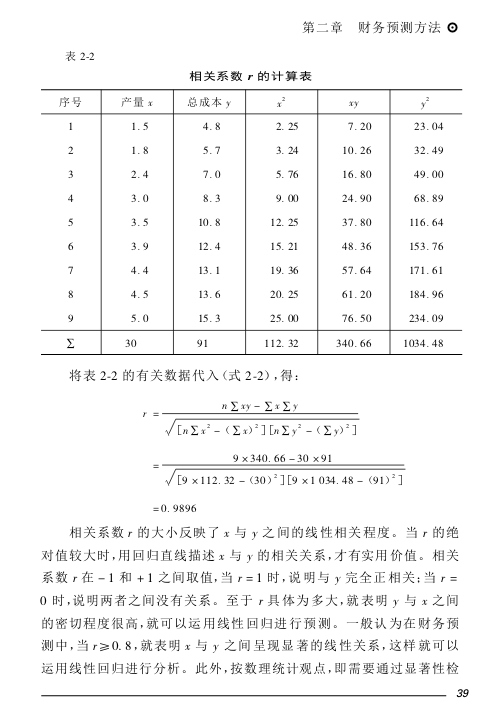table: (41, 89, 463, 355)
